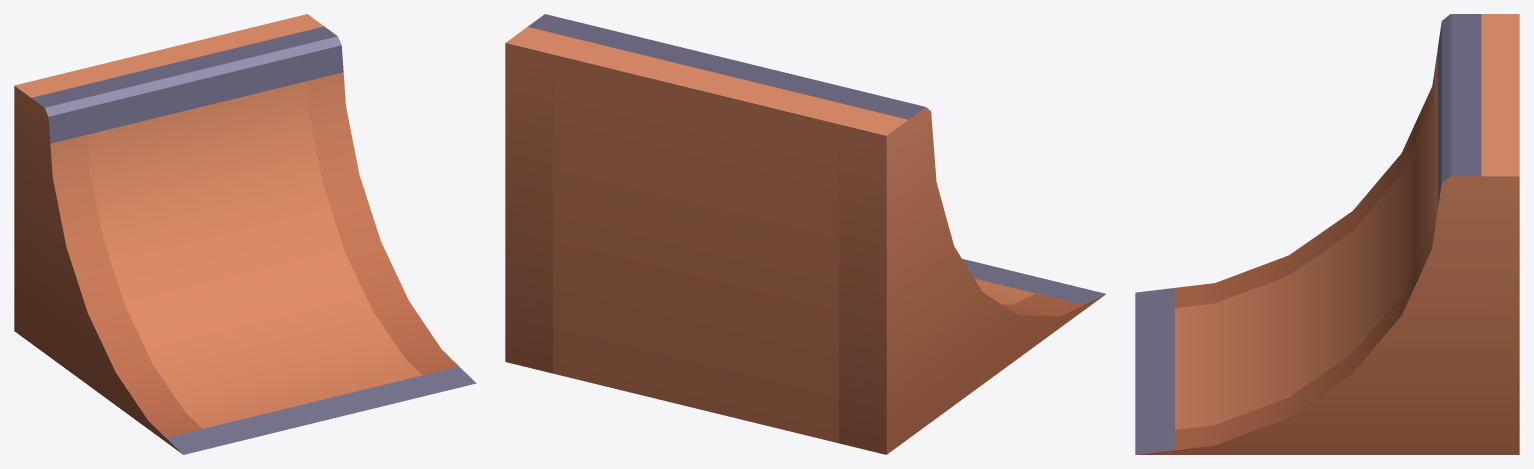
The model's file is sport_halfpipe.glb.
3 renders of one model, left to right at view 1: azimuth 30°, elevation 25°; view 2: azimuth 150°, elevation 25°; view 3: azimuth 270°, elevation 25°, orthographic. The views are drawn at different scales.
Visible parts, largest first — view 1: half-pipe; view 2: half-pipe; view 3: half-pipe.
Part boxes in pixels (x1,y1,x2,y2): half-pipe: [14, 14, 476, 454]; half-pipe: [505, 14, 1105, 454]; half-pipe: [1135, 14, 1519, 454].
Bounding box in the file's own units: 1 × 0.8 × 1.
1 material, 1 textured.
